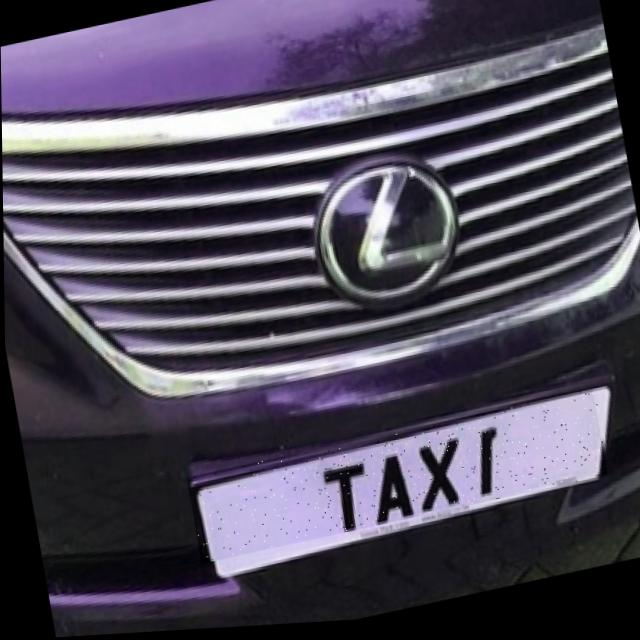license_plate: (185, 395, 610, 567)
